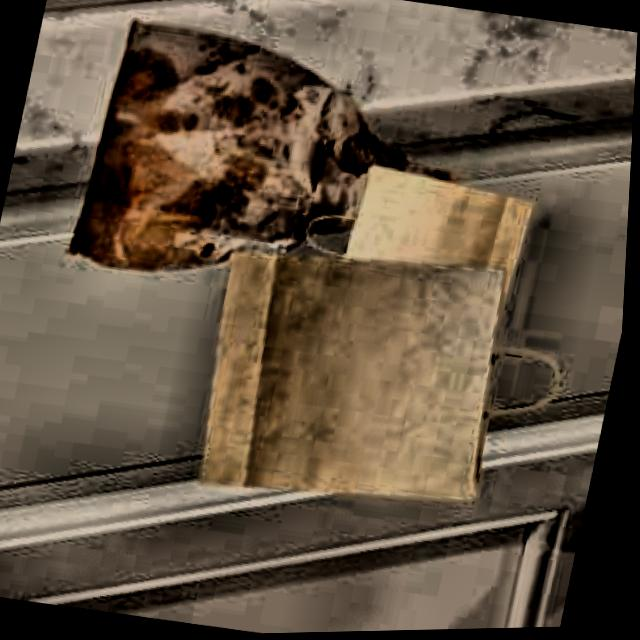Paper-bag: (53, 0, 506, 338), (176, 220, 593, 556), (276, 147, 560, 375)
